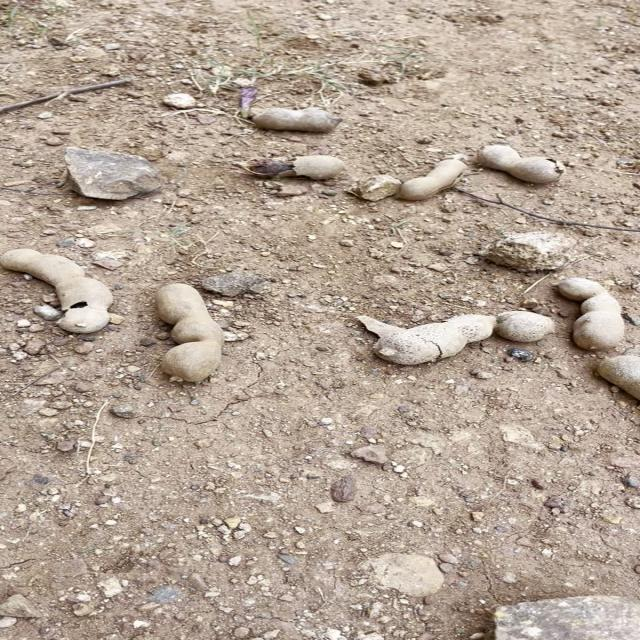tamarind: (0, 247, 119, 333), (143, 279, 233, 381), (382, 313, 492, 372), (546, 270, 618, 350), (473, 136, 581, 182), (400, 154, 469, 200), (246, 108, 354, 131), (502, 308, 553, 338)
